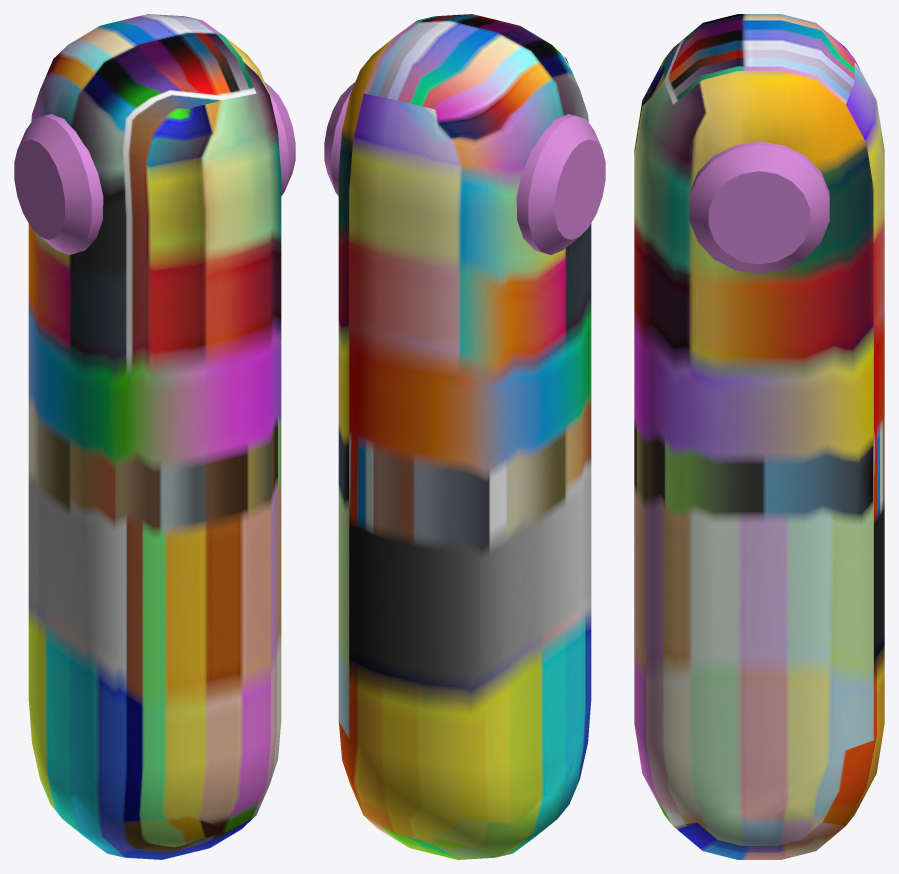
Rendered from ShortDoor.fbx.
The picture shows the model from 3 angles, left to right: view 1: azimuth 30°, elevation 25°; view 2: azimuth 150°, elevation 25°; view 3: azimuth 270°, elevation 25°; orthographic projection.
Parts seen in each view (by area): view 1: Cube.036, Cube.034; view 2: Cube.036, Cube.034; view 3: Cube.036, Cube.034.
Part boxes in pixels (<box>): Cube.036: <box>28,14,281,859</box>; Cube.034: <box>14,82,295,254</box>; Cube.036: <box>338,14,591,859</box>; Cube.034: <box>324,82,605,254</box>; Cube.036: <box>634,14,884,859</box>; Cube.034: <box>689,141,829,273</box>.
Bounding box in the file's own units: 0.7363 × 2.47 × 0.6915.
